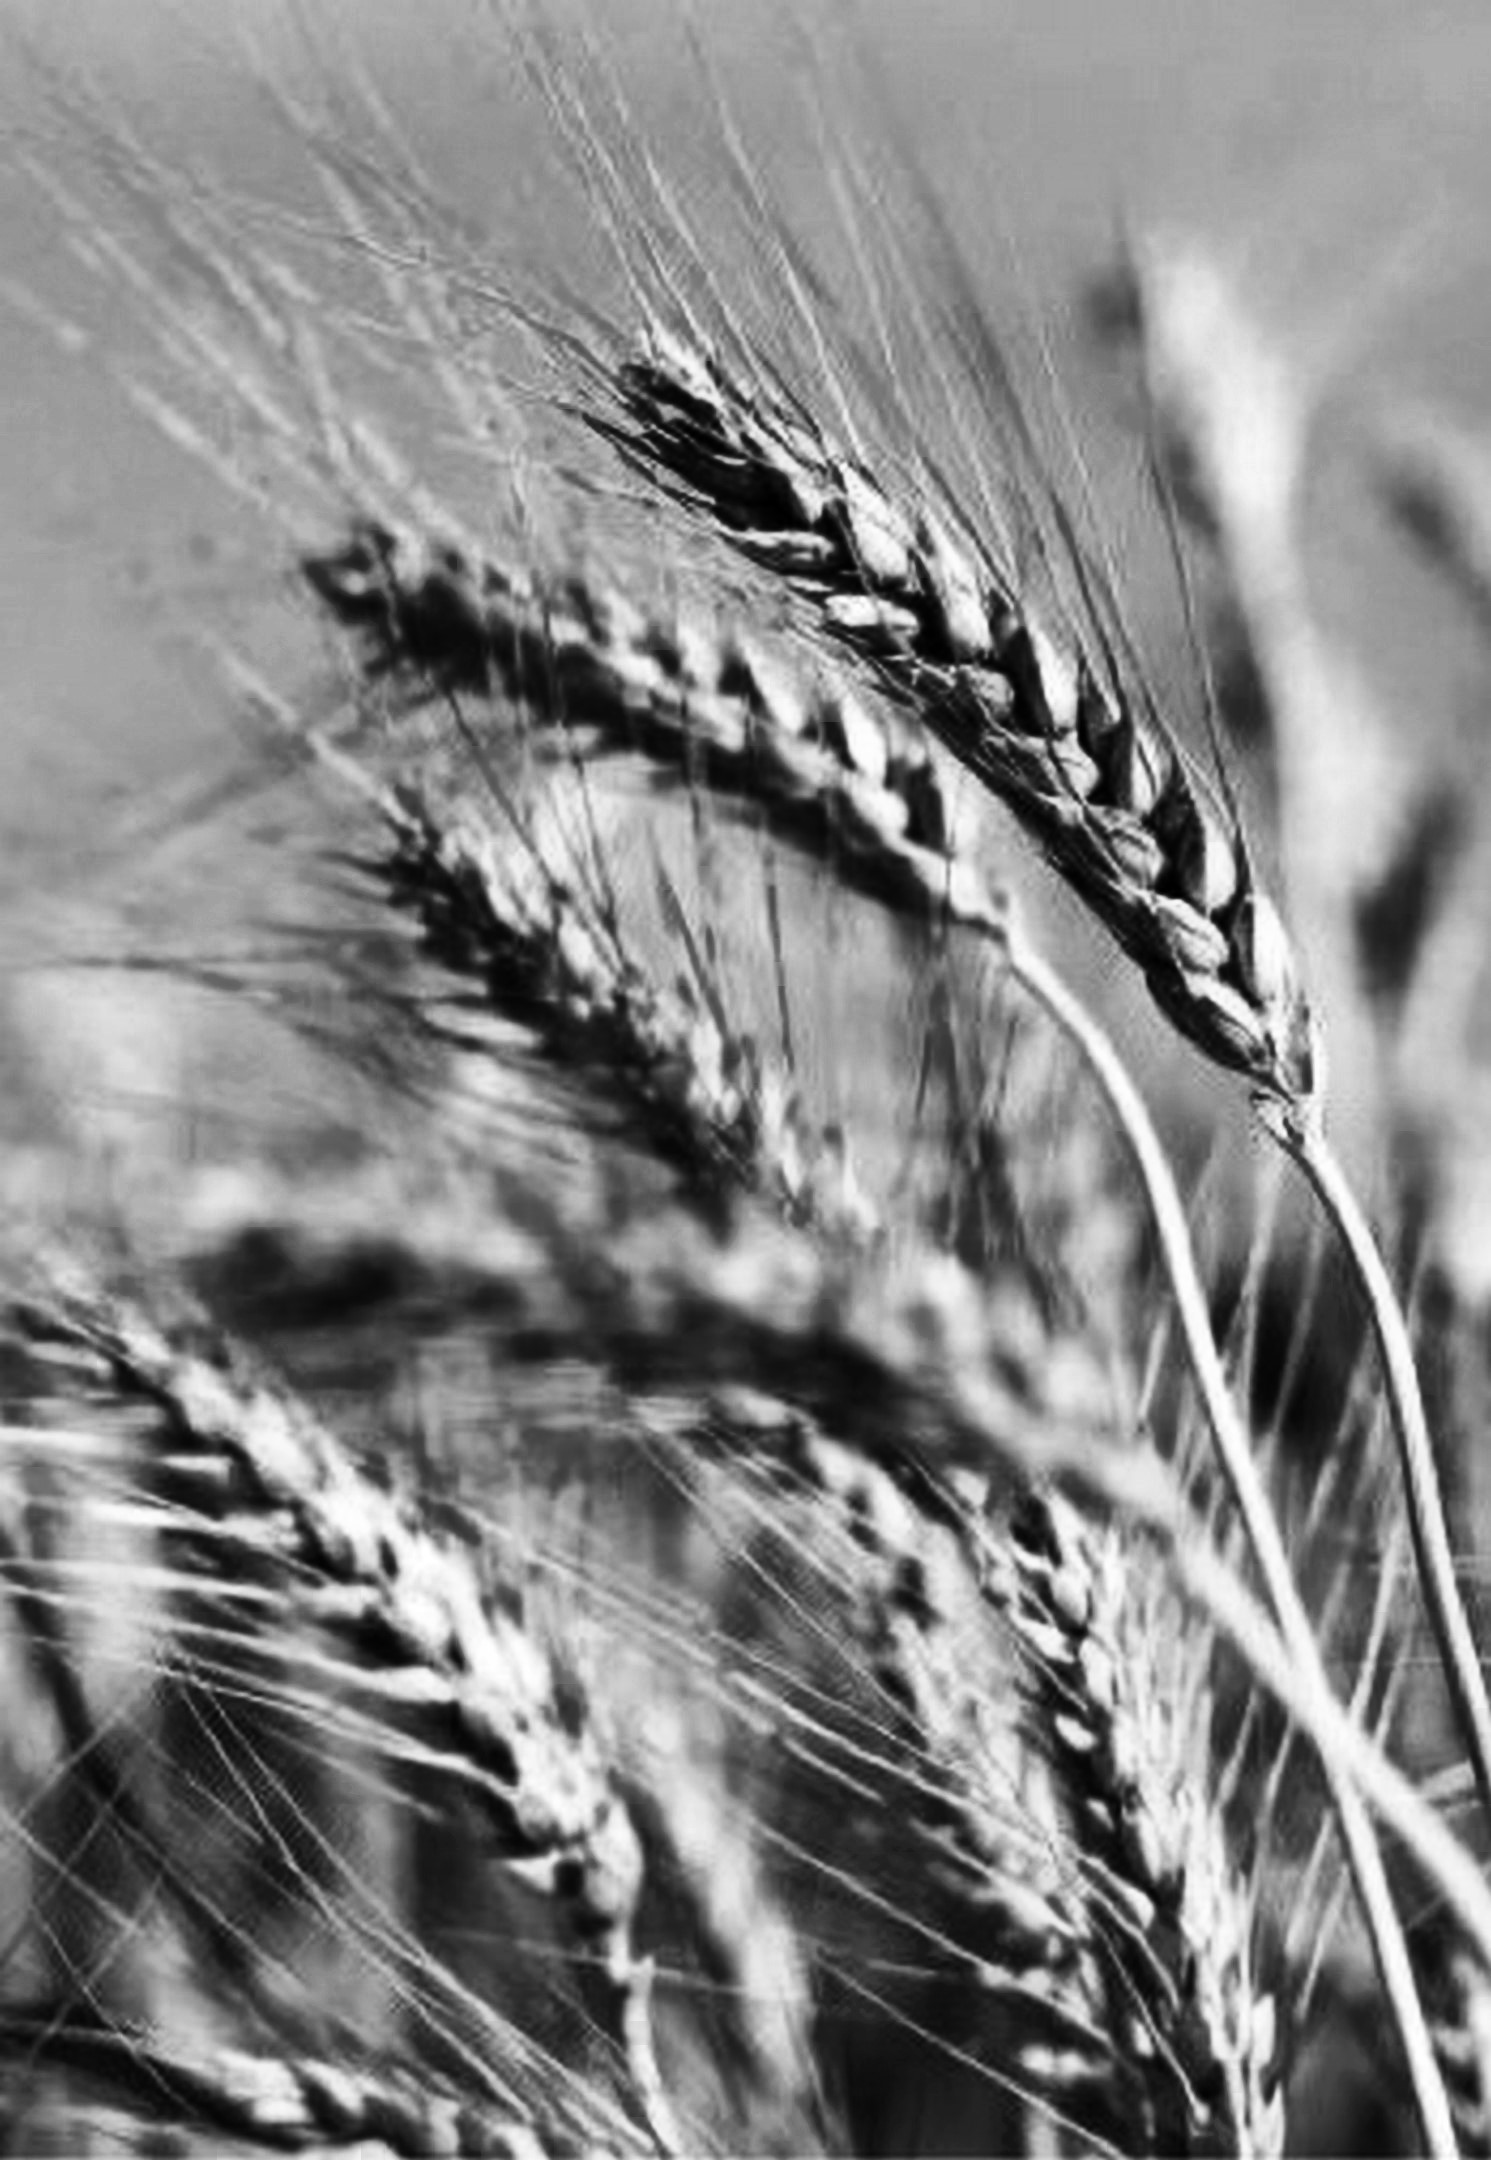Healthy Wheat: (553, 238, 1346, 1114)
